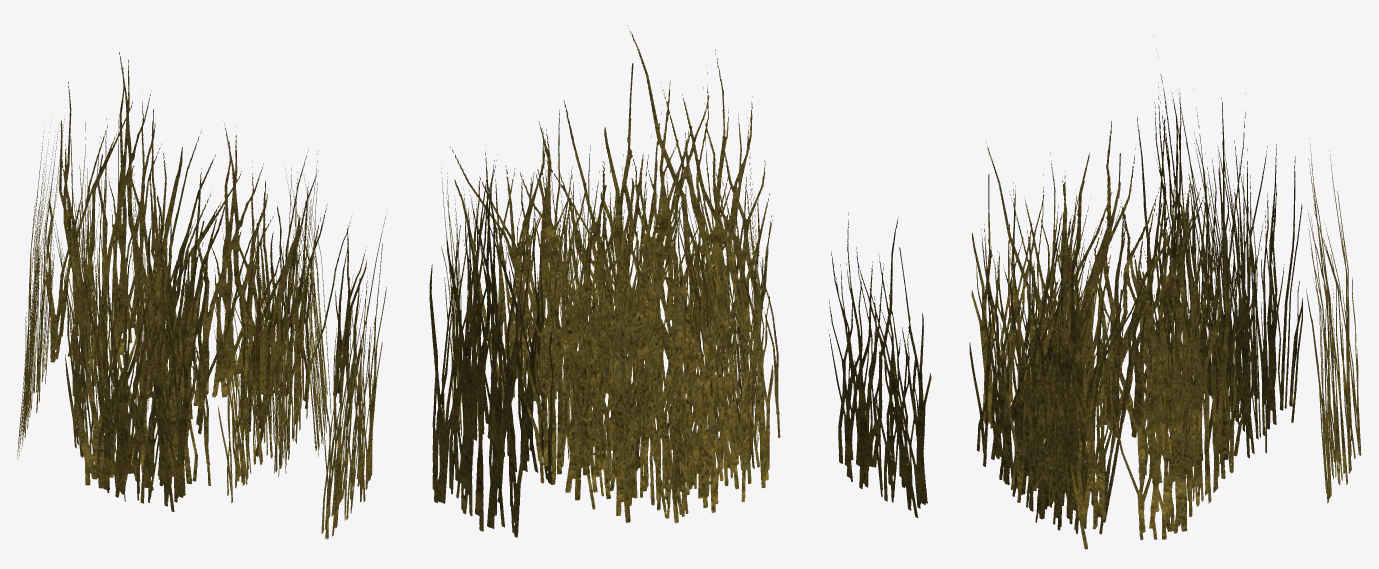
The model's file is grass_3d_02_yellow.glb.
3 renders of one model, left to right at view 1: azimuth 30°, elevation 25°; view 2: azimuth 150°, elevation 25°; view 3: azimuth 270°, elevation 25°, orthographic. The views are drawn at different scales.
Visible parts, largest first — view 1: grass_cards; view 2: grass_cards; view 3: grass_cards.
Boxes of the visible parts, box(x1,y1,x2,y2) form: grass_cards: box(17, 52, 386, 539); grass_cards: box(429, 25, 780, 537); grass_cards: box(828, 34, 1361, 549).
Bounding box in the file's own units: 0.611 × 0.6851 × 0.8281.
Materials: 1 (1 with a texture image).
